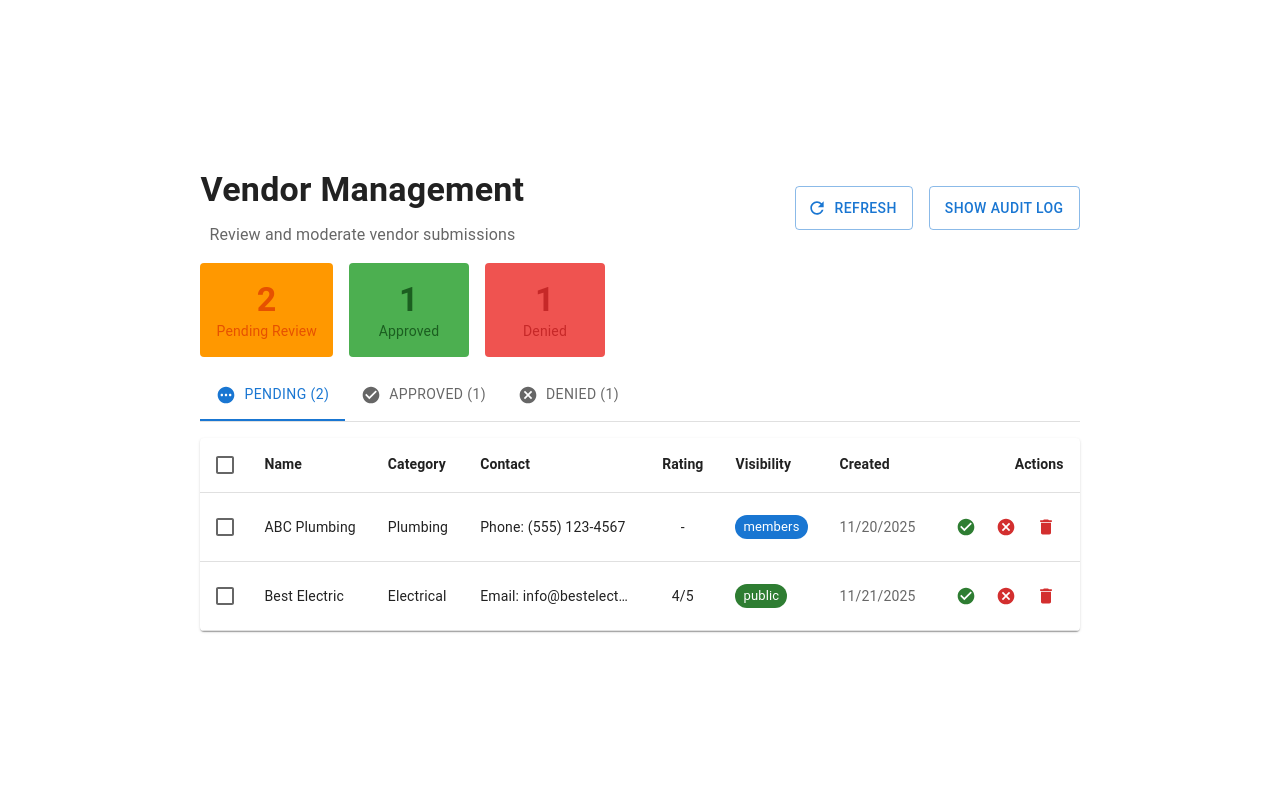
Test: VendorManagement - Role Gating › Admin Access › allows deleting vendors with confirmation
Expected: the text "ABC Plumbing" is shown, 264,517 -> 356,537
// Click delete button
Step 1. Click the button named "Delete" → {"x": 1046, "y": 527}, box 1028,509 -> 1064,545
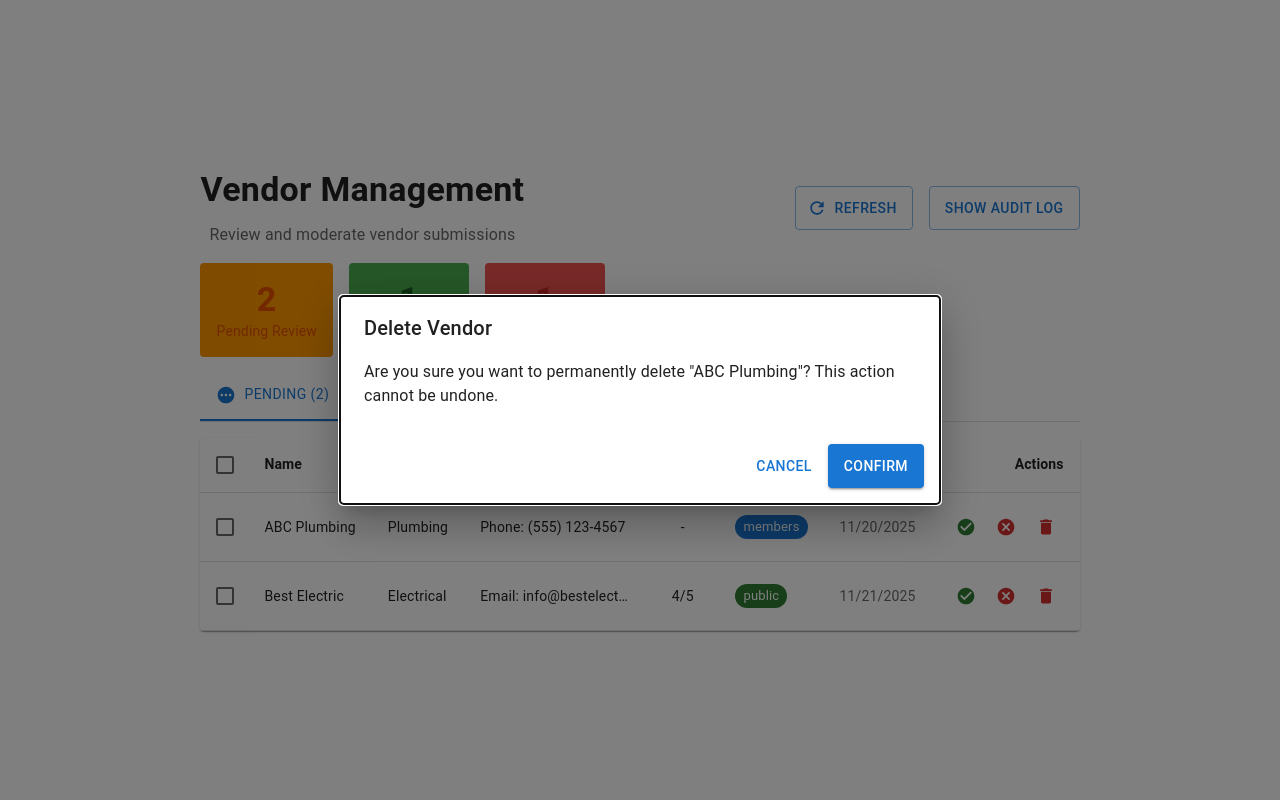
Expected: the heading "Delete Vendor" is shown, 364,316 -> 492,340
Expected: the text "cannot be undone" is shown, 364,362 -> 895,405
